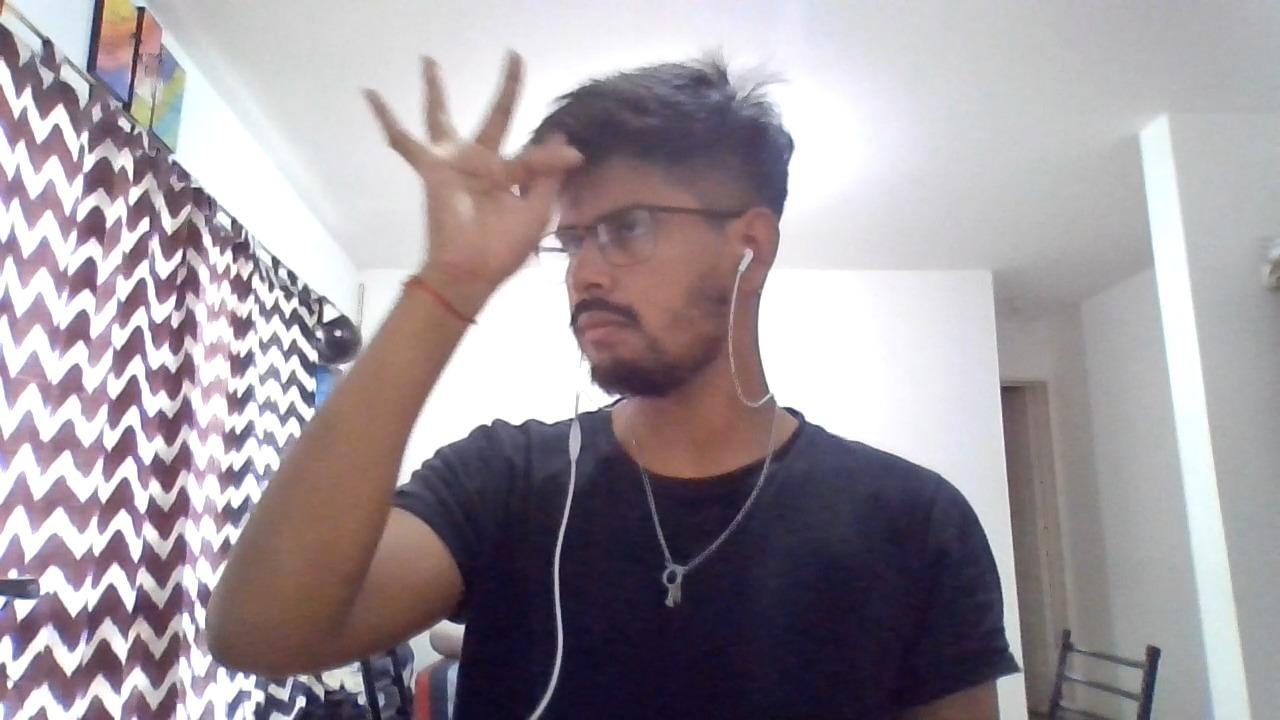Hospital: (224, 16, 892, 646)
